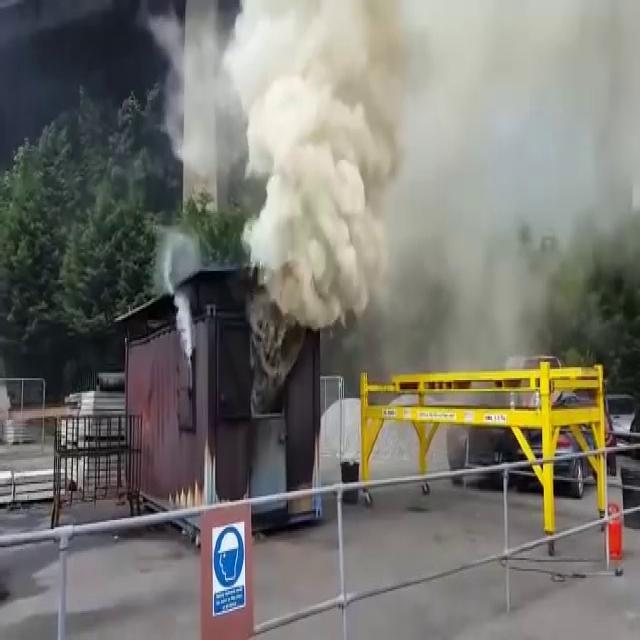Smoke: (195, 0, 640, 318)
